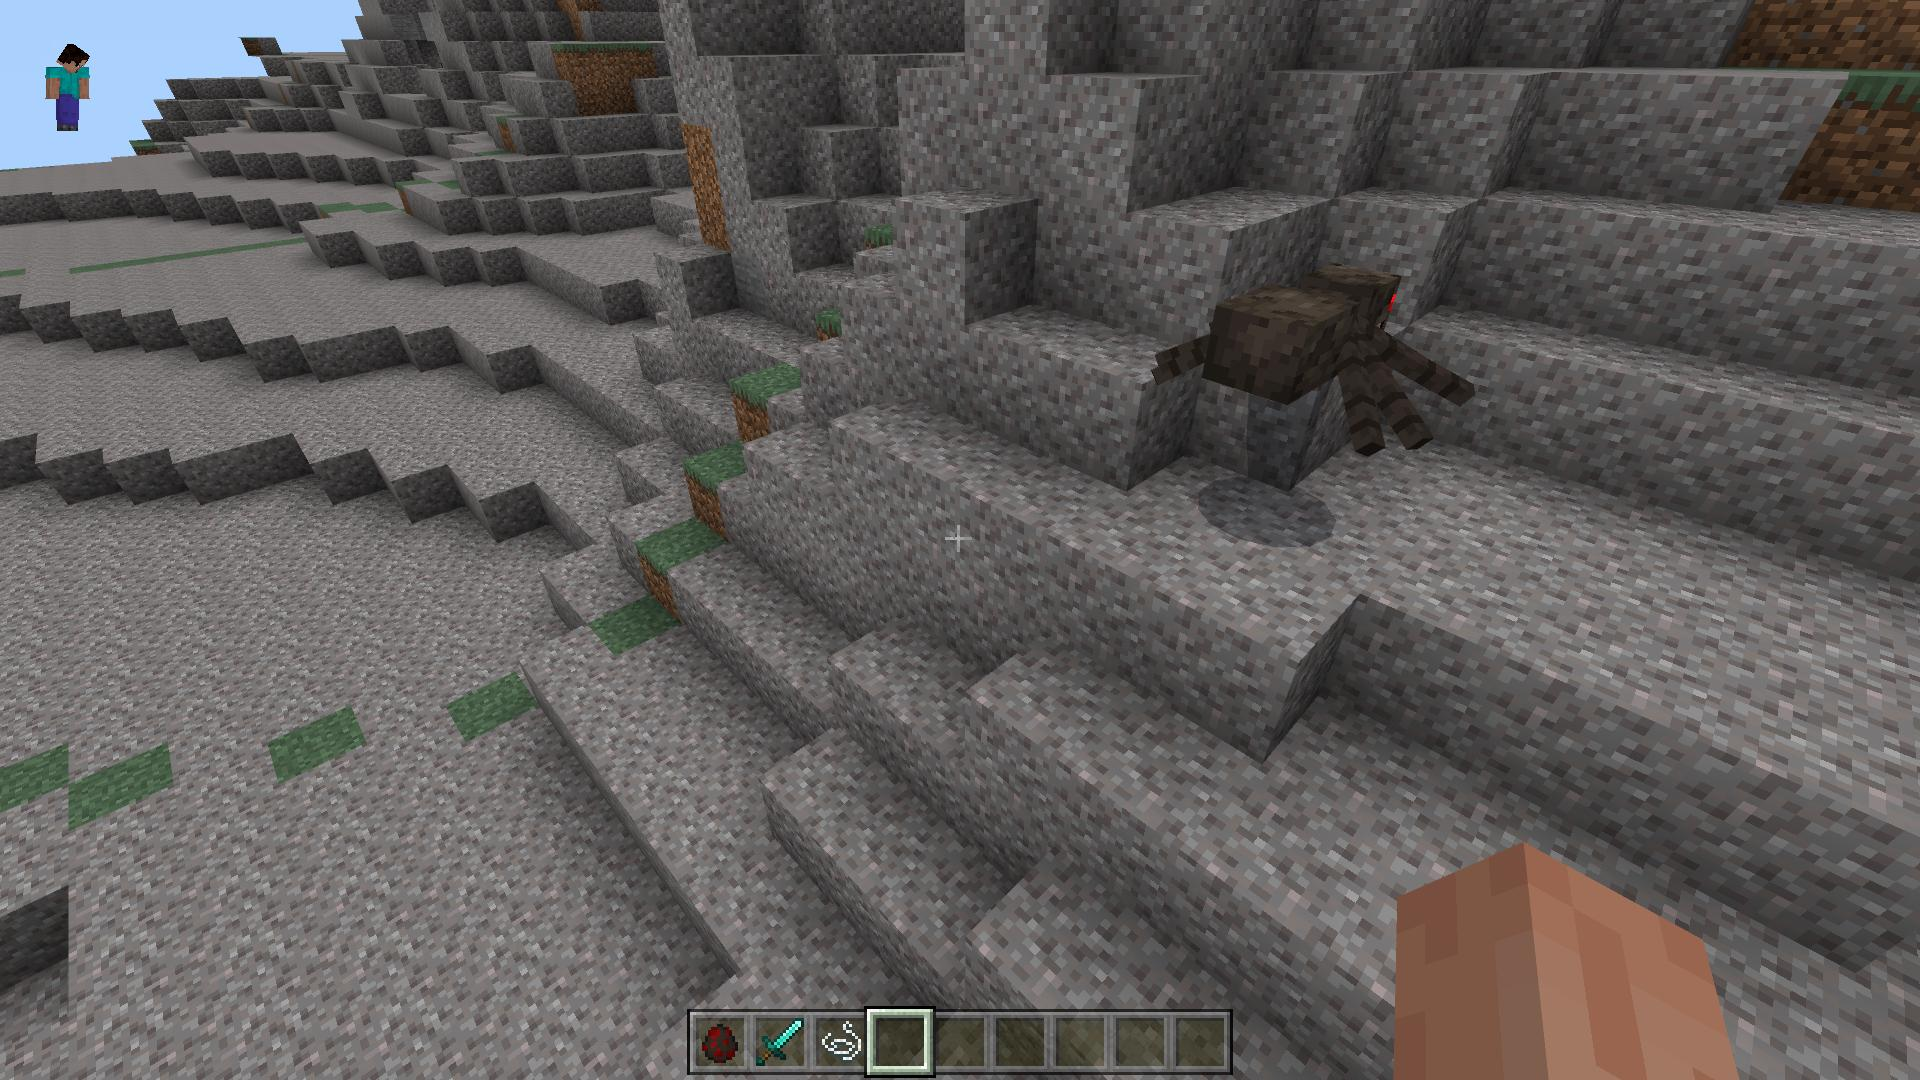spider: (1160, 264, 1476, 462)
